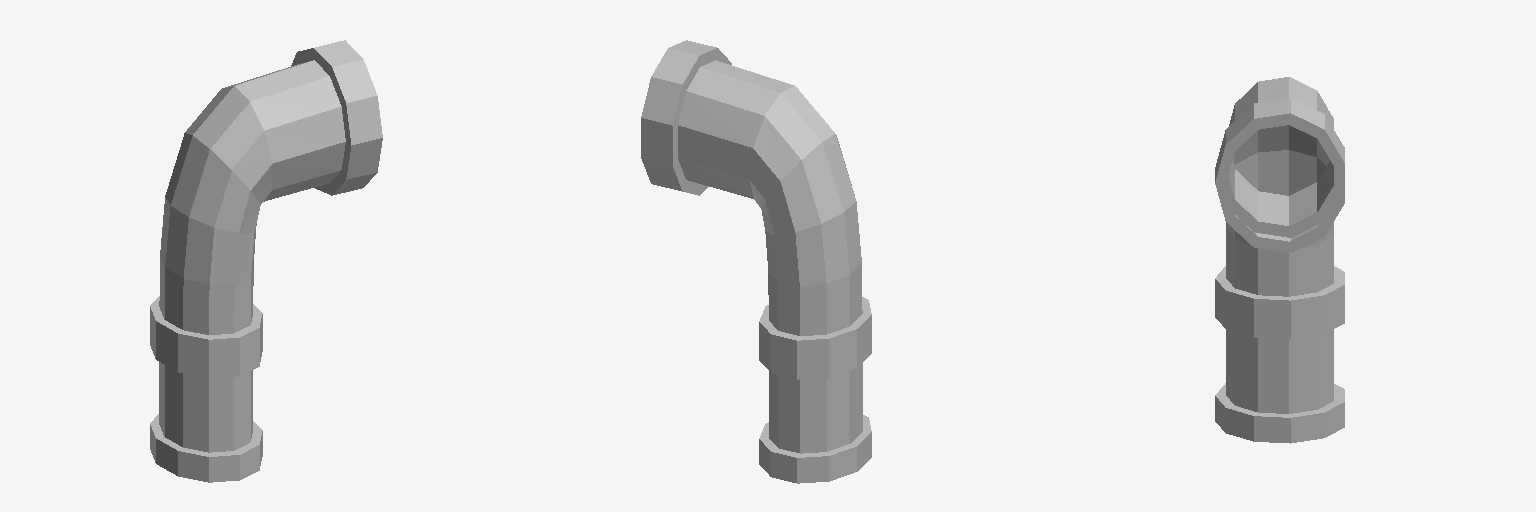
Rendered from pipe.obj.
3 views of the same model, side by side, from view 1: azimuth 30°, elevation 25°; view 2: azimuth 150°, elevation 25°; view 3: azimuth 270°, elevation 25° (orthographic).
Parts seen in each view (by area): view 1: hub:pipe7 Hub; view 2: hub:pipe7 Hub; view 3: hub:pipe7 Hub.
Part boxes in pixels (x1,y1,x2,y2): hub:pipe7 Hub: (150, 40, 382, 482); hub:pipe7 Hub: (641, 40, 871, 483); hub:pipe7 Hub: (1215, 77, 1344, 443).
Bounding box in the file's own units: 4.31 × 8.23 × 2.56.